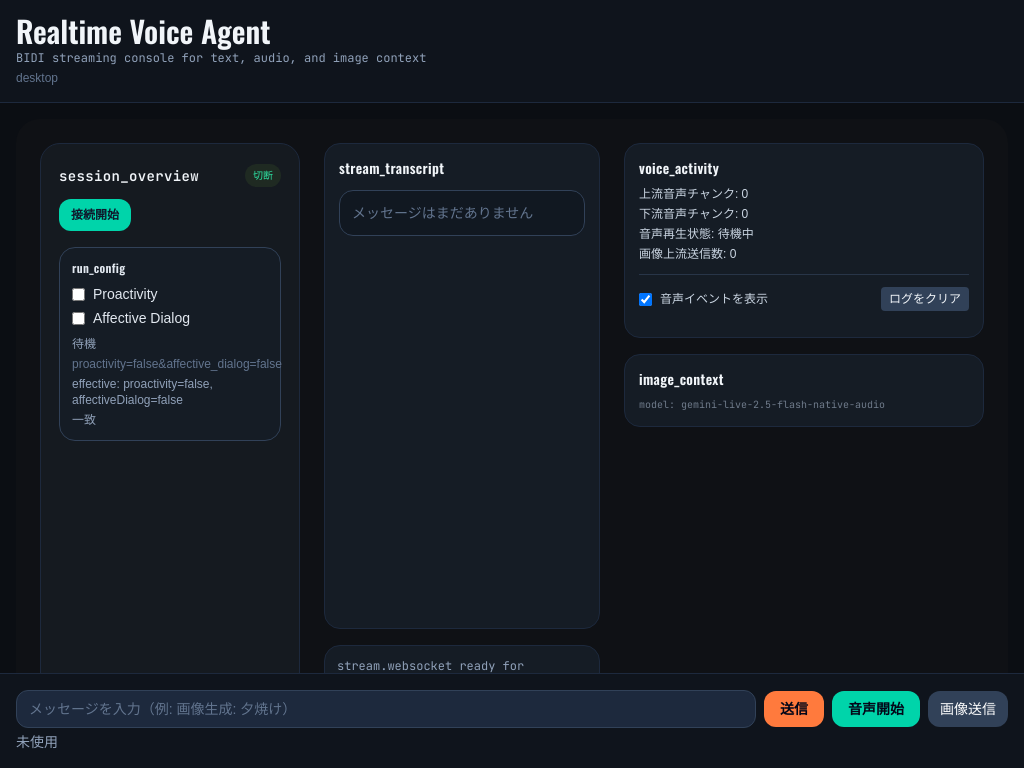
Test case: App shell › toggles voice input active state between start and stop actions
The width and height of the screenshot is (1024, 768).
Click the button "音声開始".
click(876, 709)  # box [832,691,920,727]
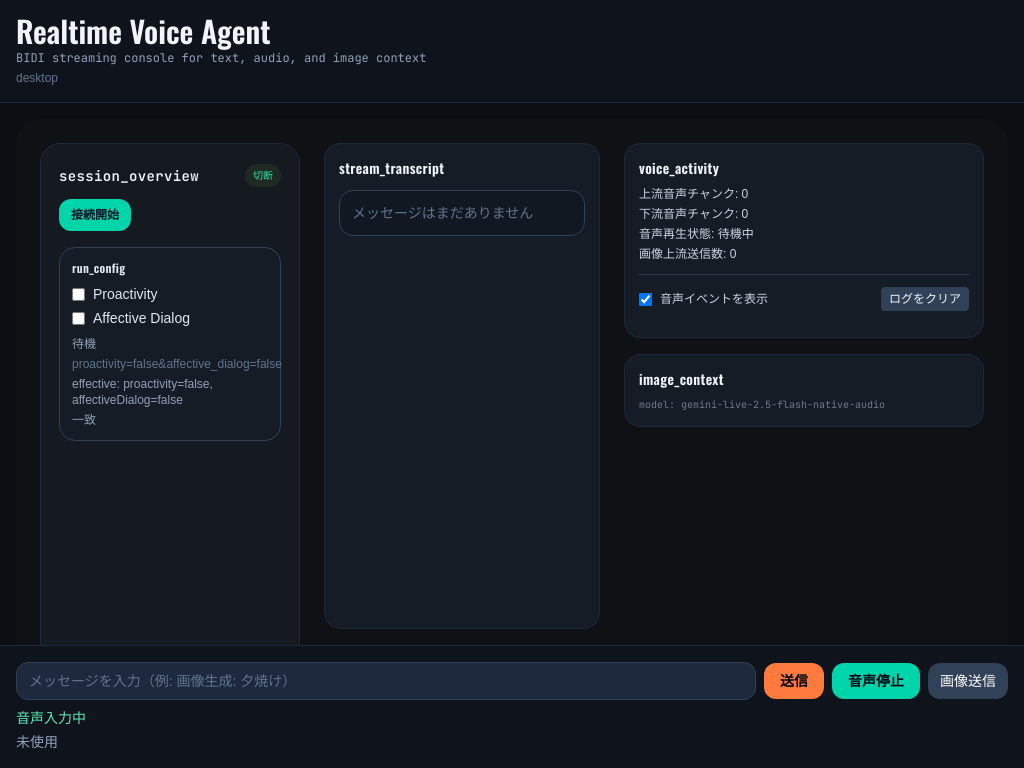
expect the text with test id "voice-input-state" reads "音声入力中": met, box [16,710,86,726]
expect the button "音声停止" is shown: met
Click the button "音声停止".
click(876, 681)  # box [832,663,920,699]
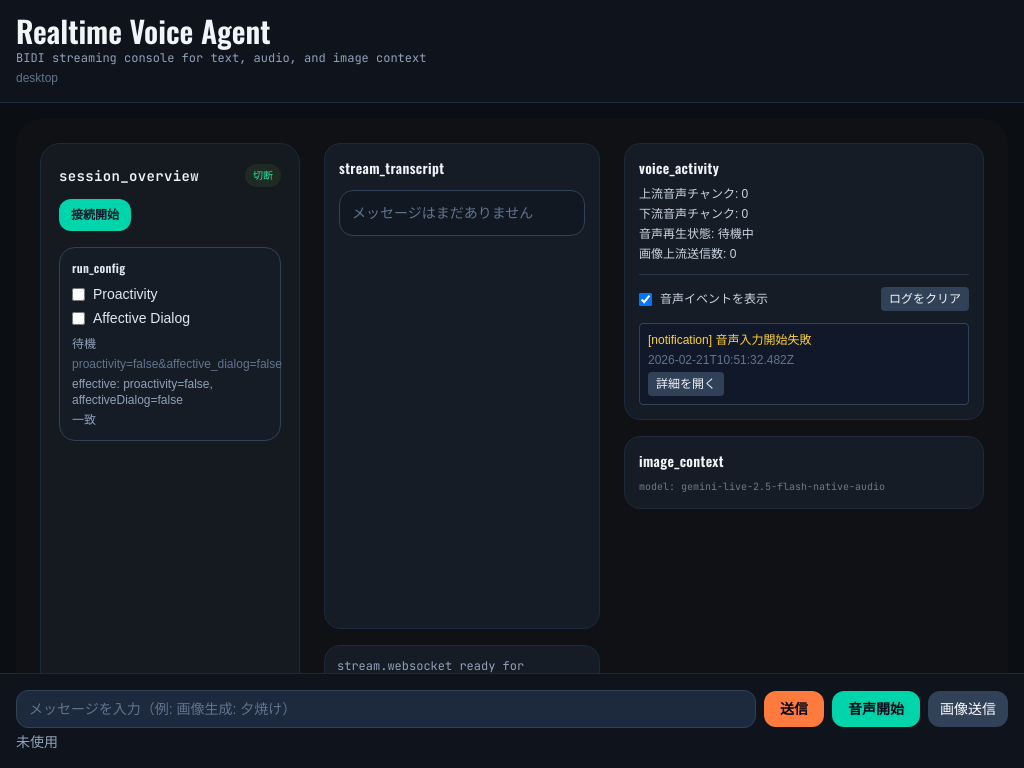
expect the text with test id "voice-input-state" is gone: met
expect the button "音声開始" is shown: met, box [832,691,920,727]
